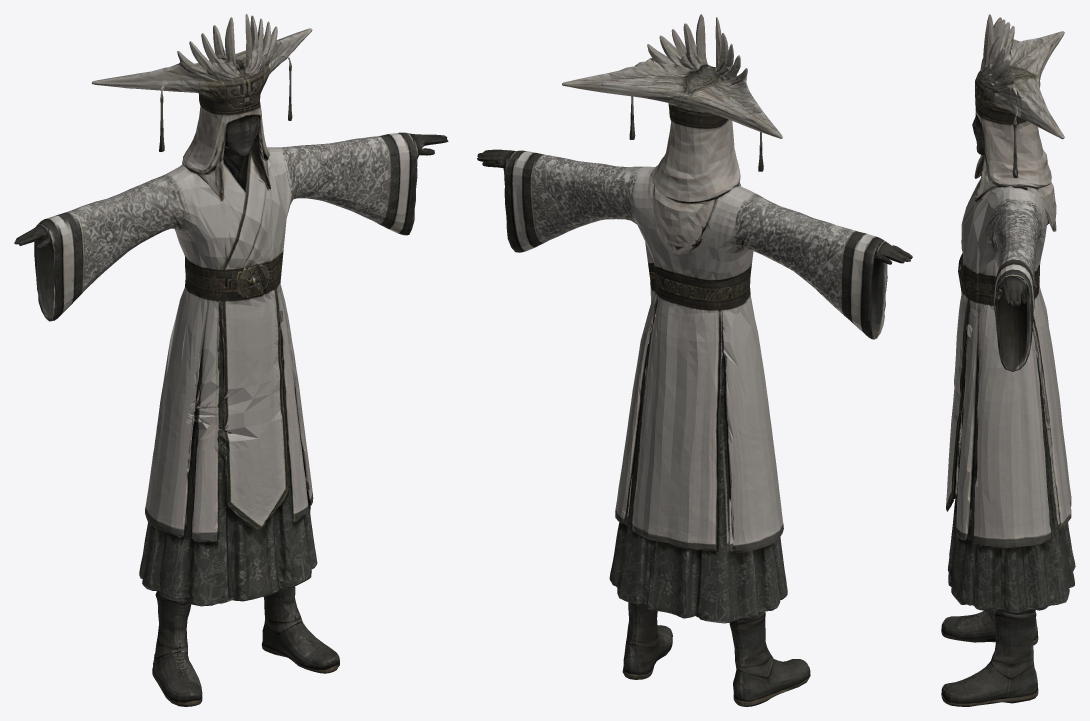
Rendered from tripo_convert_a43f9dbf-a752-485a-b94e-0959a035debc.obj.
The picture shows the model from 3 angles, left to right: view 1: azimuth 30°, elevation 25°; view 2: azimuth 150°, elevation 25°; view 3: azimuth 270°, elevation 25°; orthographic projection.
Parts seen in each view (by area): view 1: tripo_node_a43f9dbf-a752-485a-b94e-0959a035debc; view 2: tripo_node_a43f9dbf-a752-485a-b94e-0959a035debc; view 3: tripo_node_a43f9dbf-a752-485a-b94e-0959a035debc.
Boxes of the visible parts, bbox=[...] form: tripo_node_a43f9dbf-a752-485a-b94e-0959a035debc: bbox=[14, 14, 448, 706]; tripo_node_a43f9dbf-a752-485a-b94e-0959a035debc: bbox=[477, 14, 912, 706]; tripo_node_a43f9dbf-a752-485a-b94e-0959a035debc: bbox=[941, 14, 1075, 706].
Size of the model in its own units: 0.6698 by 0.9773 by 0.1822.
Materials: 1 (1 with a texture image).
